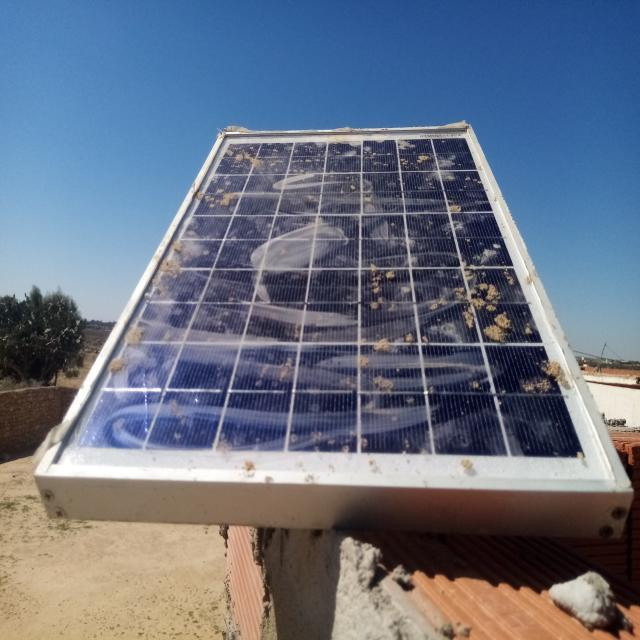faulty: (42, 127, 626, 492)
